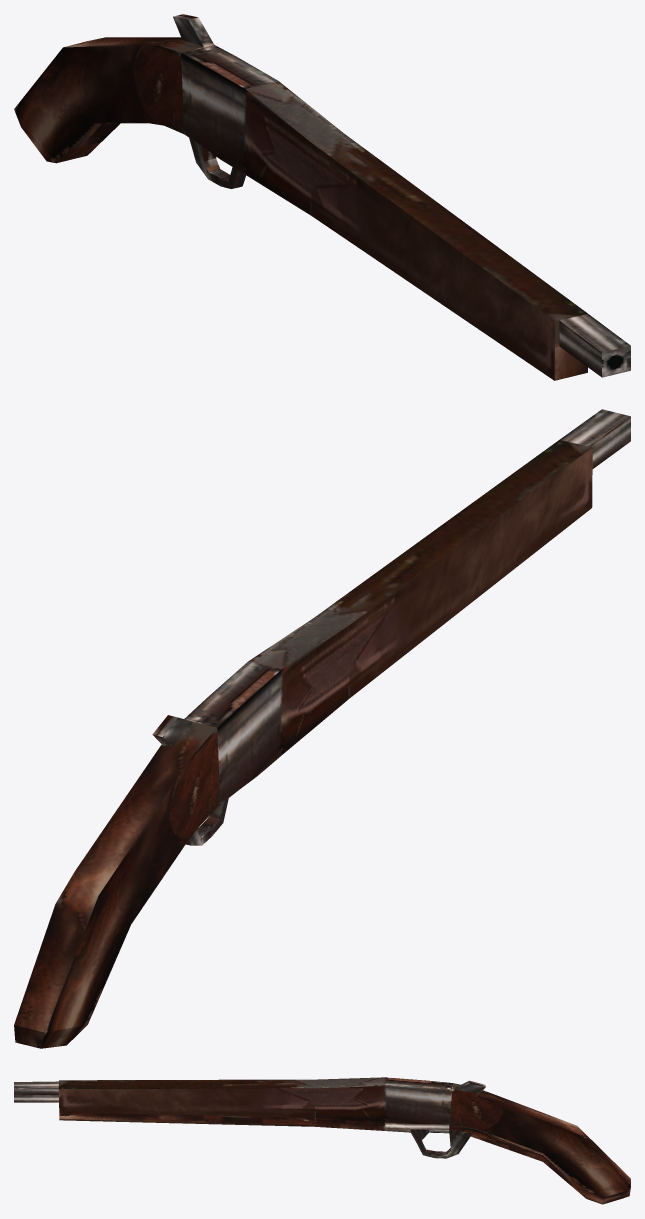
Rendered from SHOTGUNN.glb.
The picture shows the model from 3 angles, top to bottom: view 1: azimuth 30°, elevation 25°; view 2: azimuth 150°, elevation 25°; view 3: azimuth 270°, elevation 25°; orthographic projection. The views are drawn at different scales.
Parts seen in each view (by area): view 1: Cube; view 2: Cube; view 3: Cube.
Part boxes in pixels (<box>): Cube: <box>14,14,630,380</box>; Cube: <box>14,409,630,1048</box>; Cube: <box>14,1077,630,1204</box>.
Bounding box in the file's own units: 0.3698 × 2.39 × 11.01.
1 material, 1 textured.
